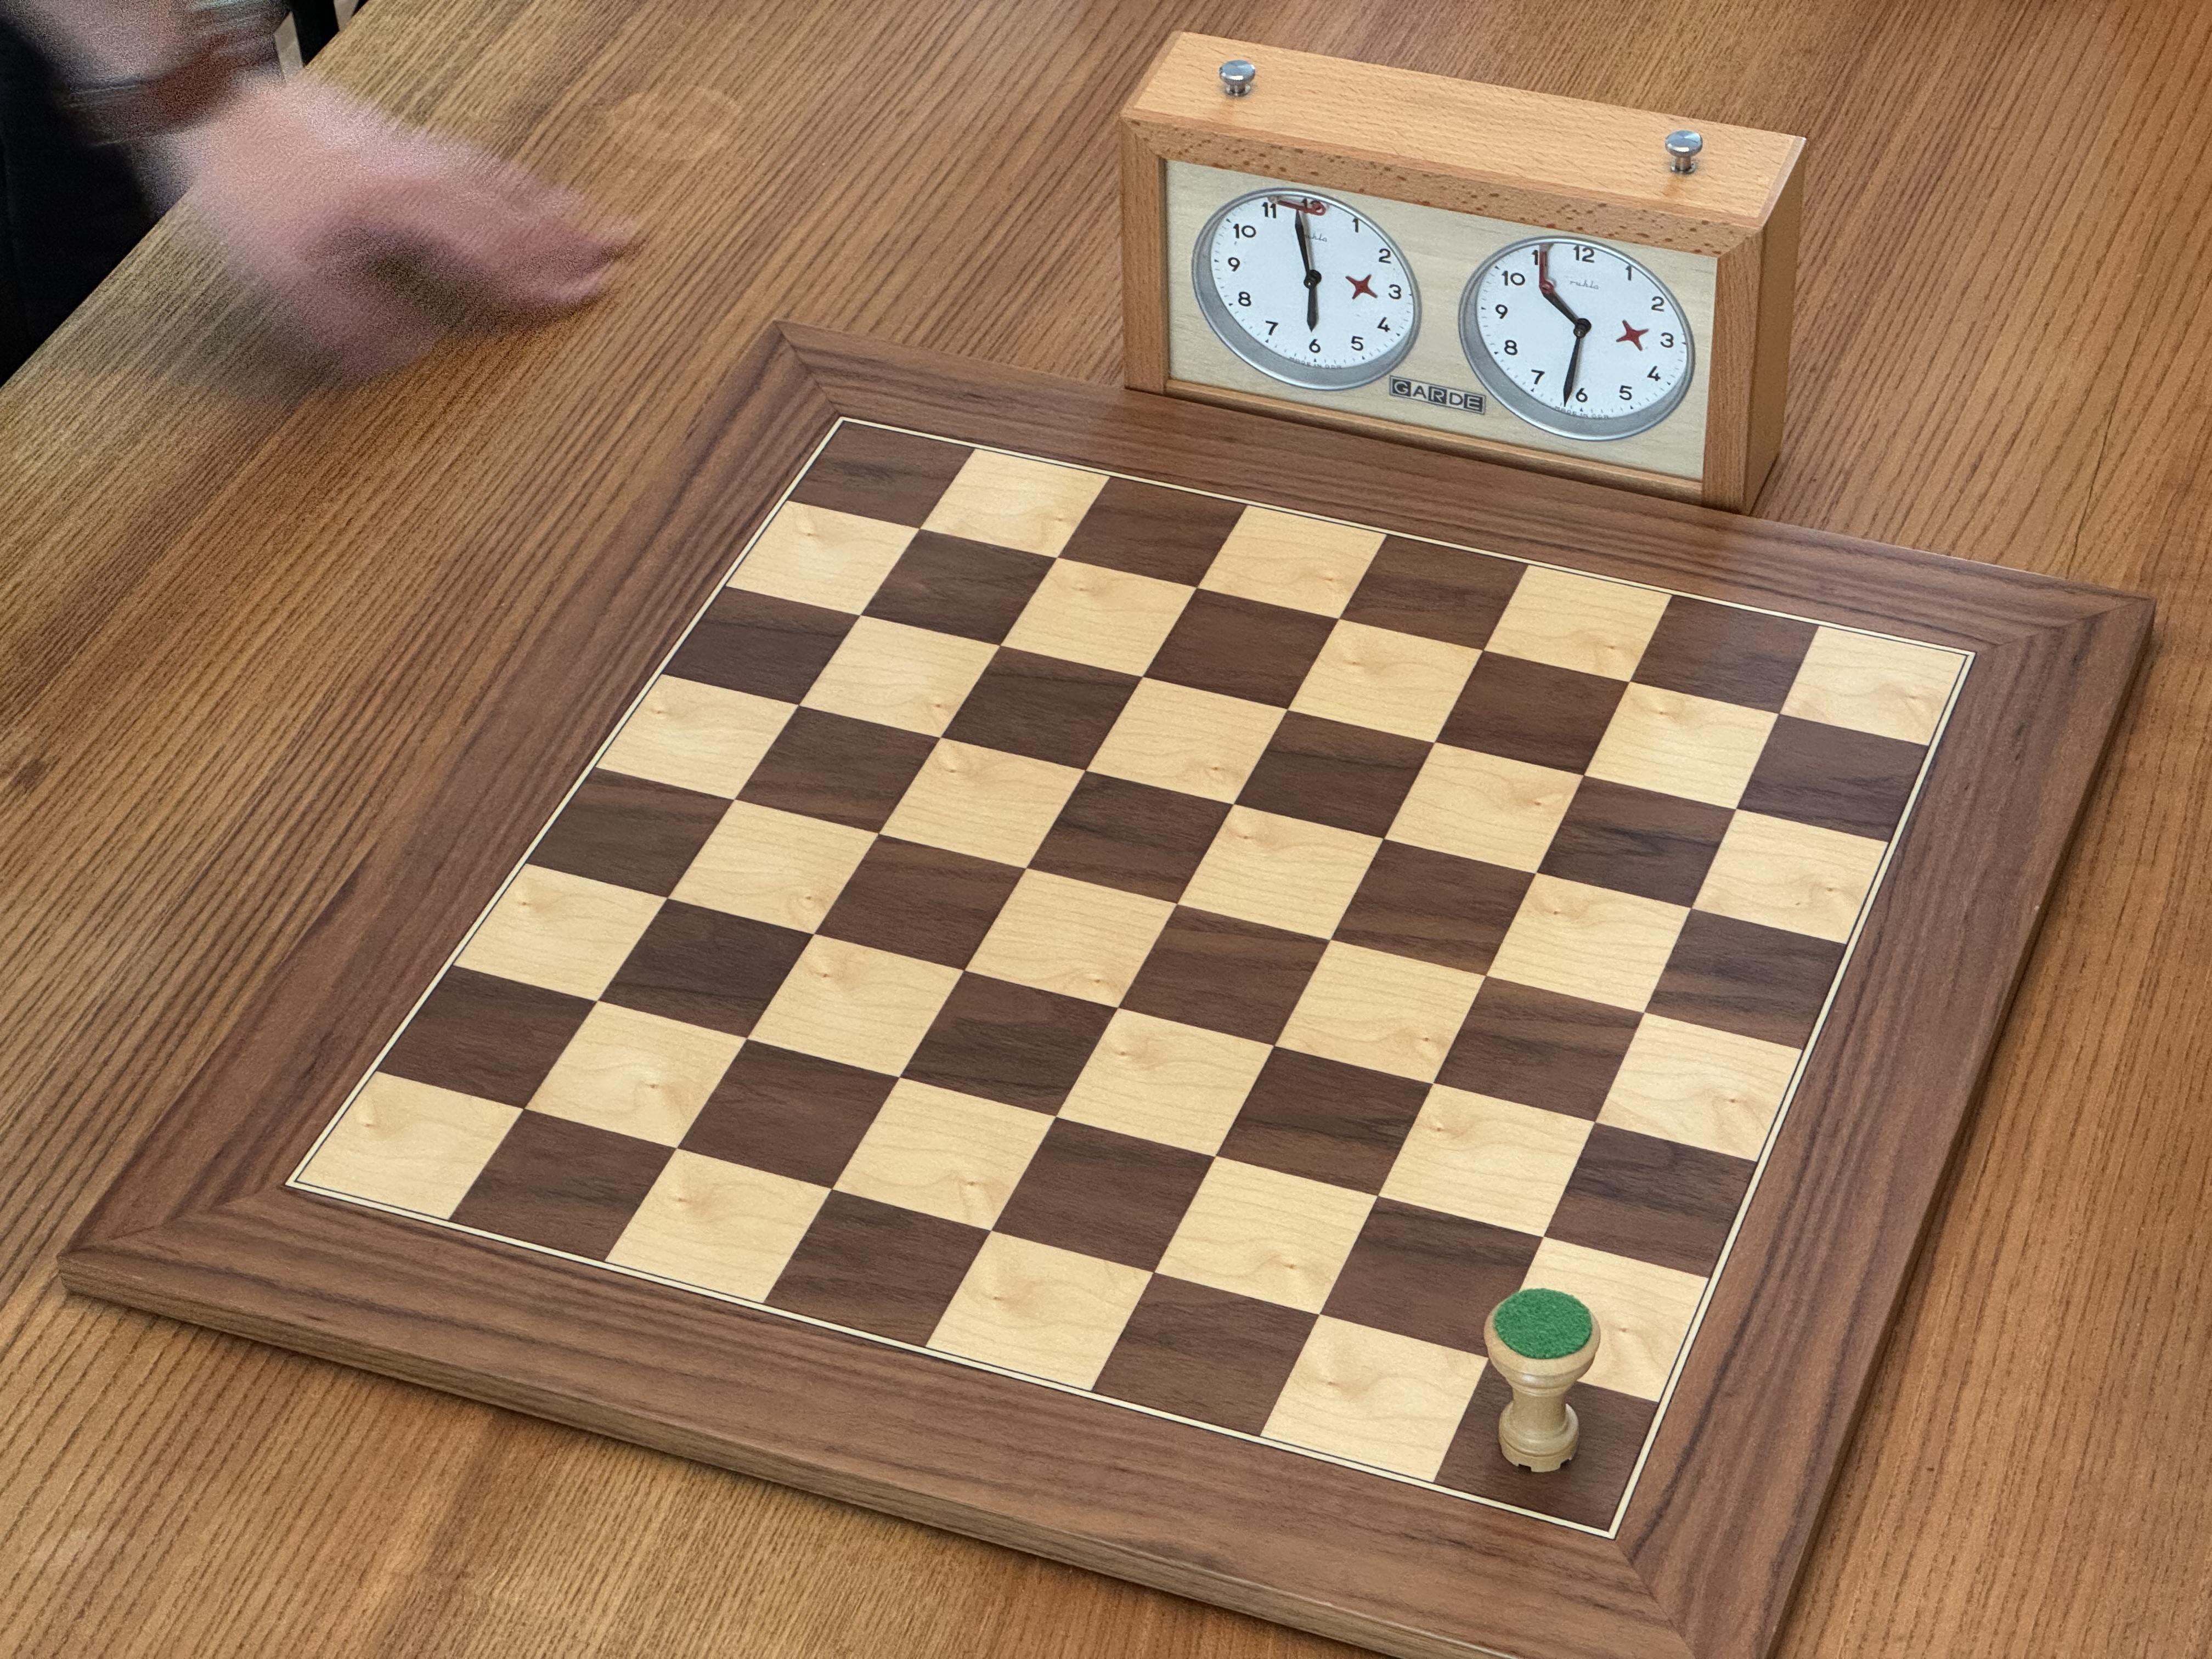White Extra Queen: (1479, 1284, 1606, 1478)
